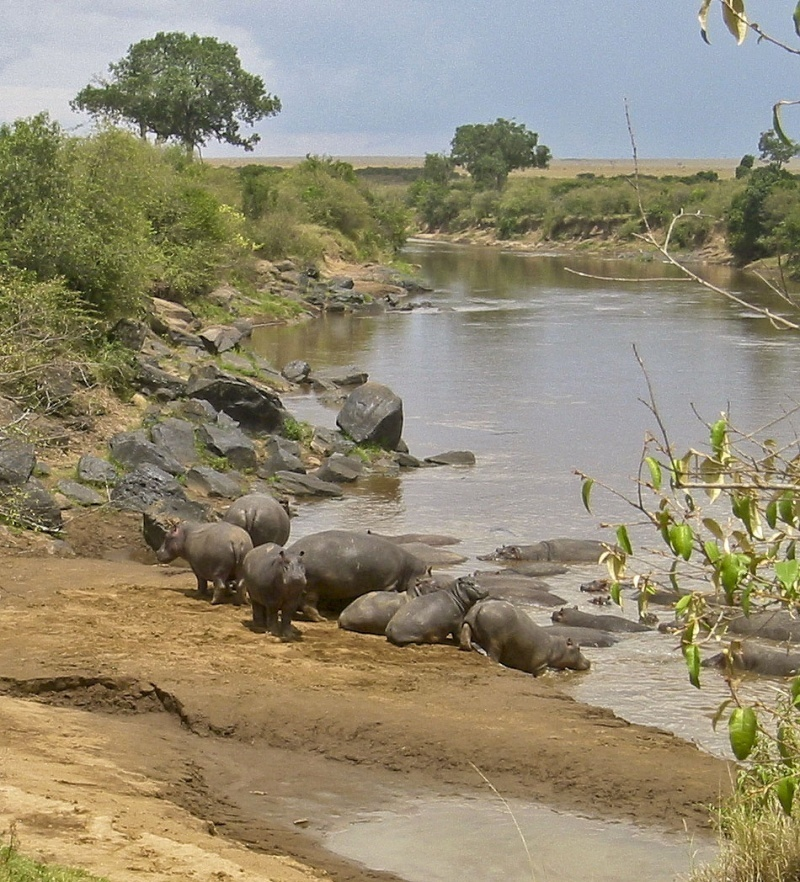hipopotamo: (278, 519, 436, 616), (473, 595, 598, 686), (138, 512, 257, 605), (383, 570, 489, 656), (467, 529, 638, 576), (238, 544, 309, 638), (548, 593, 656, 652), (217, 490, 301, 548)
